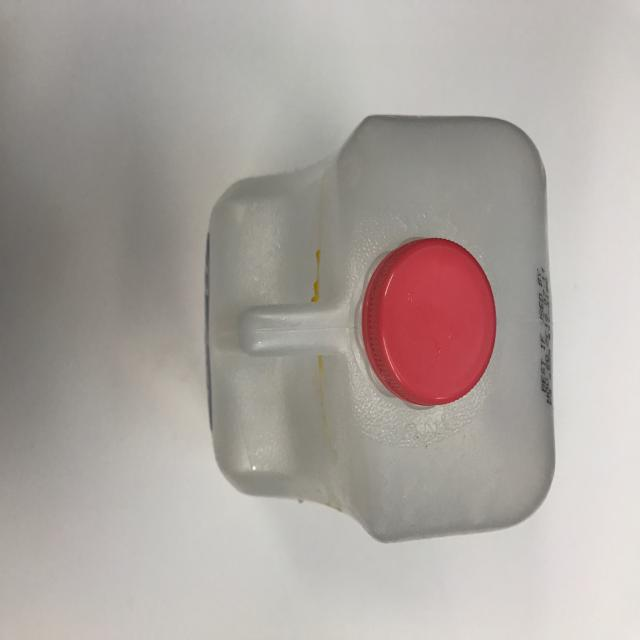Plastic: (169, 80, 594, 582)
